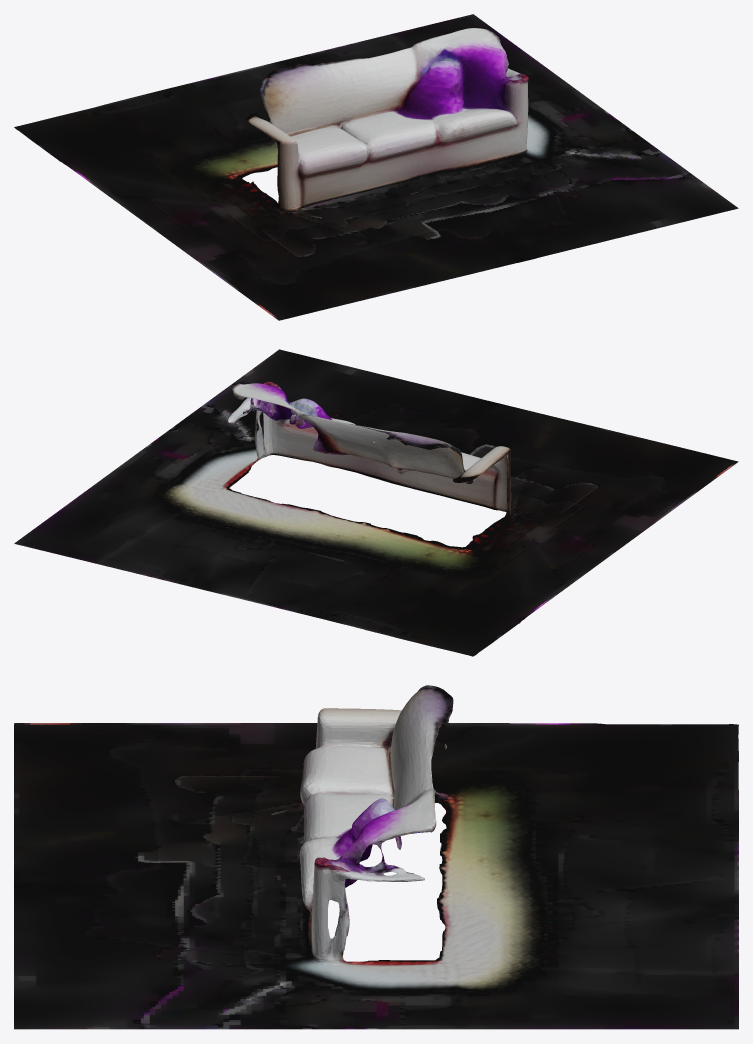
The model's file is trellis_result.glb.
3 views of the same model, one above another, from view 1: azimuth 30°, elevation 25°; view 2: azimuth 150°, elevation 25°; view 3: azimuth 270°, elevation 25° (orthographic). The views are drawn at different scales.
Visible parts, largest first — view 1: world; view 2: world; view 3: world.
Boxes of the visible parts, x1,y1,x2,y2 form: world: [14, 14, 738, 320]; world: [14, 349, 738, 656]; world: [14, 685, 738, 1029].
Size of the model in its own units: 1 by 0.2015 by 1.
Materials: 1 (1 with a texture image).
